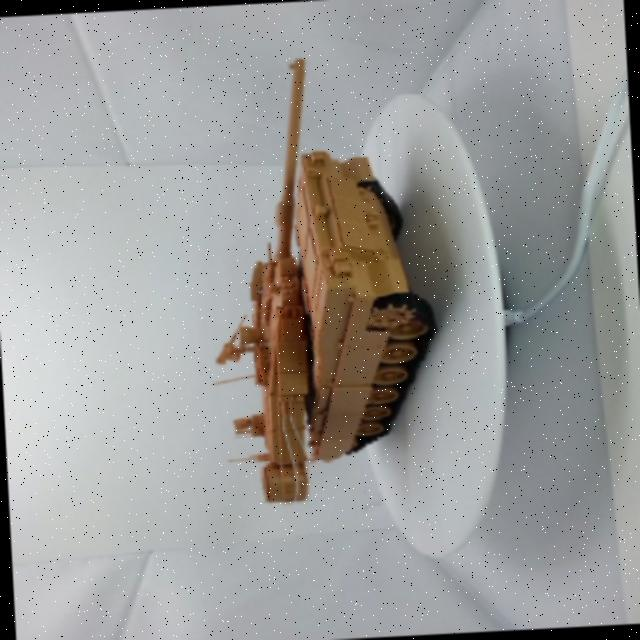korea tank: (182, 35, 456, 523)
